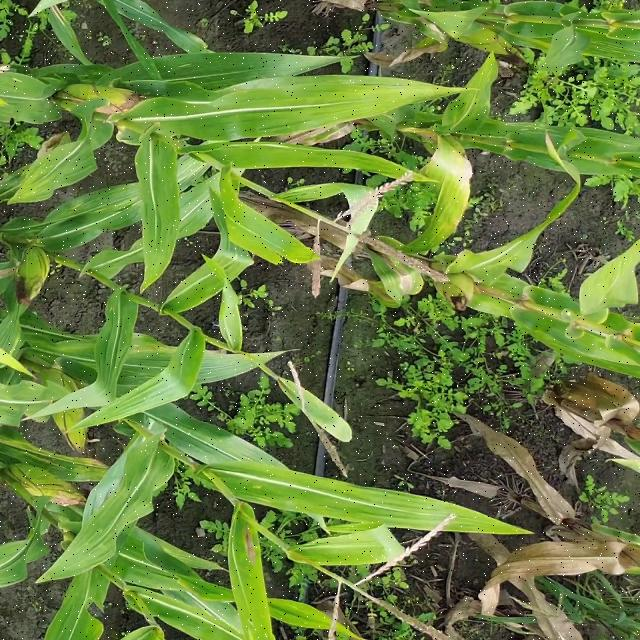southern-leaf-blight: (139, 53, 303, 131), (12, 430, 128, 498), (0, 139, 88, 217)
